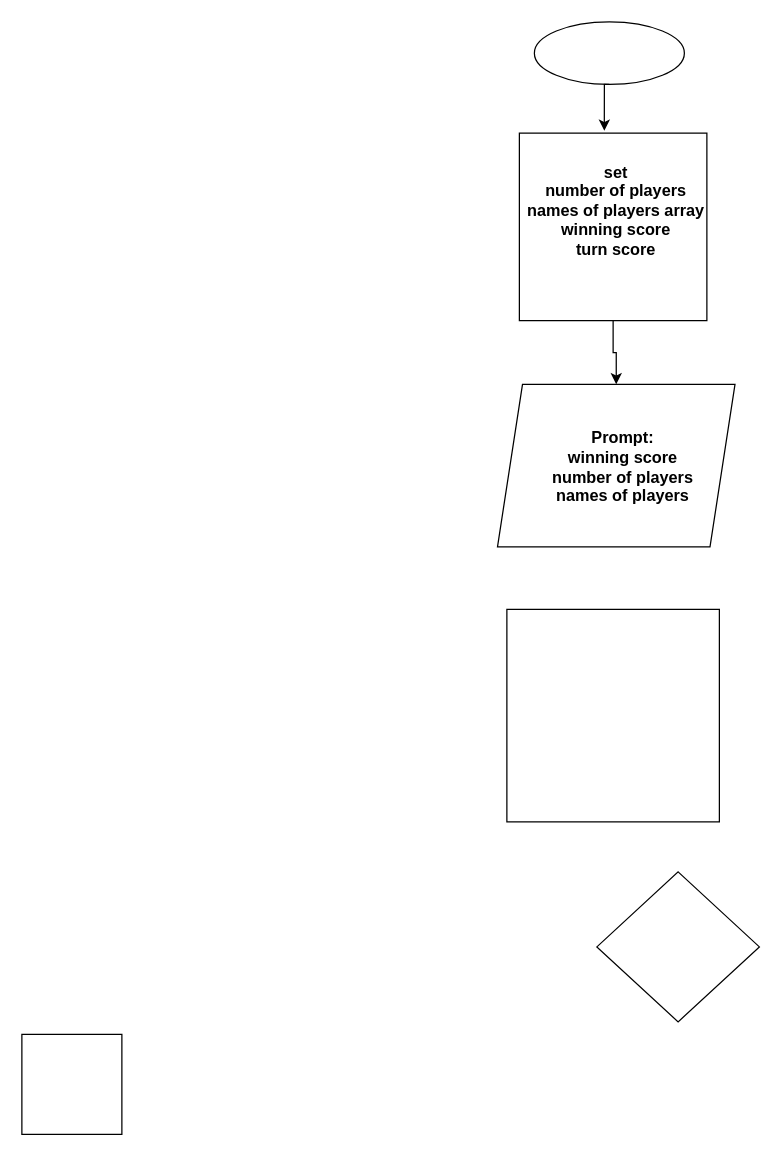
Image size: 781x1156. Some labels were removed from this diagram. The centre of each missing label's shape, as x and y in pixels:
"Player Roll Dice" goes at point 612,715.
"Start" goes at point 608,52.
